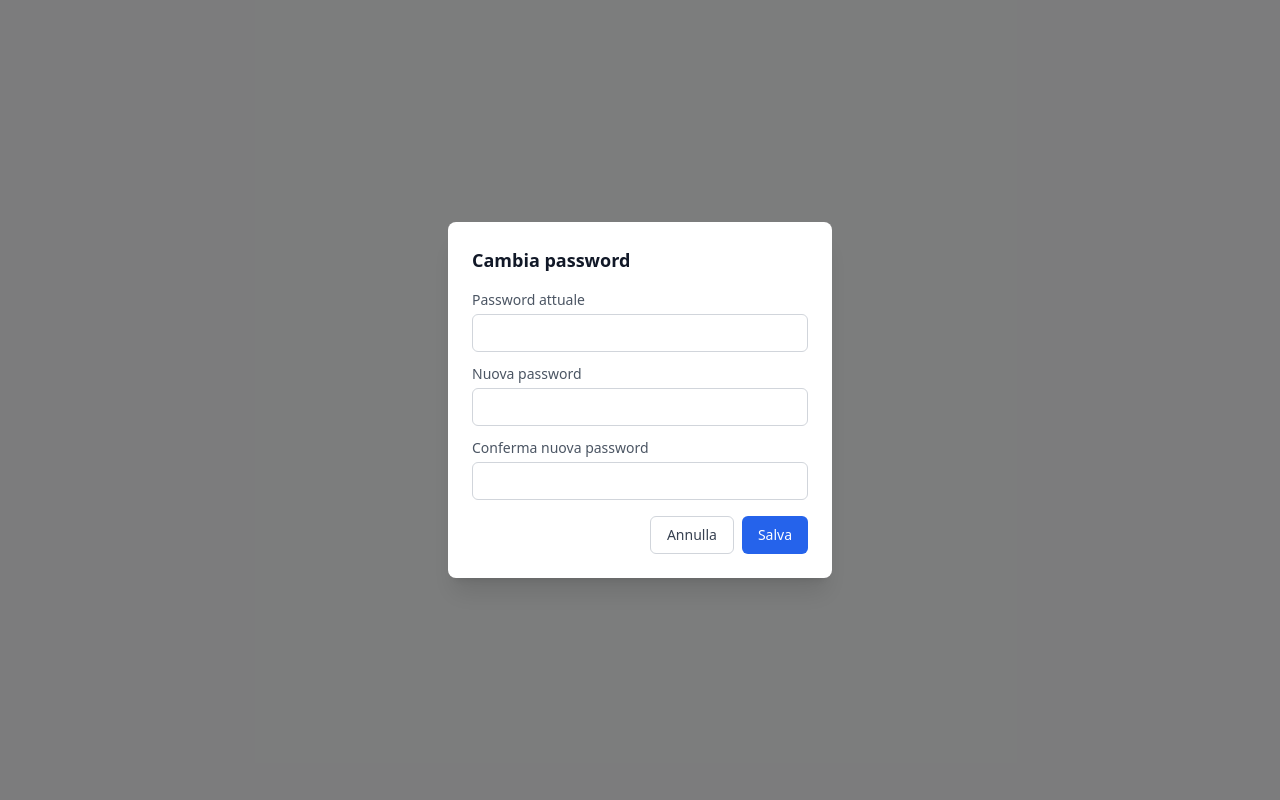
ChangePasswordModal › shows the server error
Type "bad" into the password field labelled "Password attuale" at coordinates (640, 333), box [472,314,808,352]
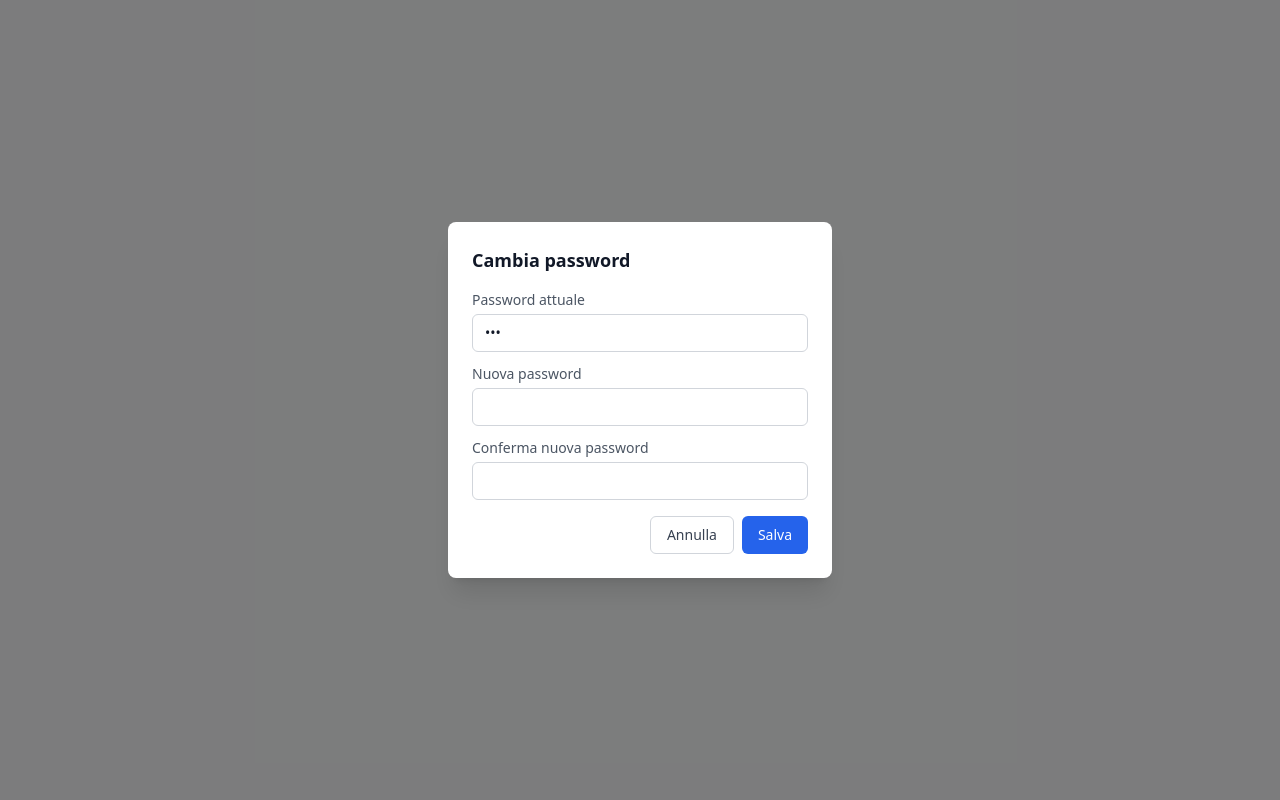
Type "newpass1" into the password field labelled "Nuova password" at coordinates (640, 407), box [472,388,808,426]
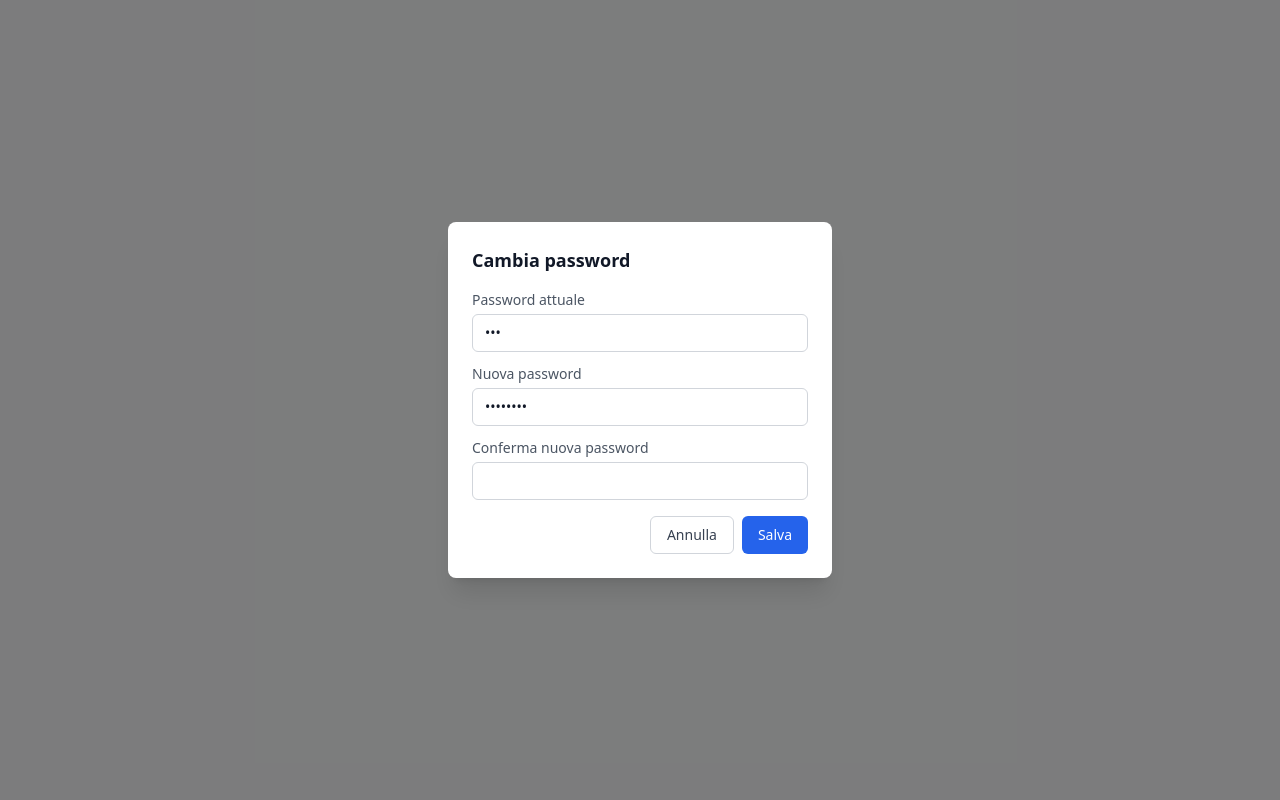
Type "newpass1" into the password field labelled "Conferma nuova password" at coordinates (640, 481), box [472,462,808,500]
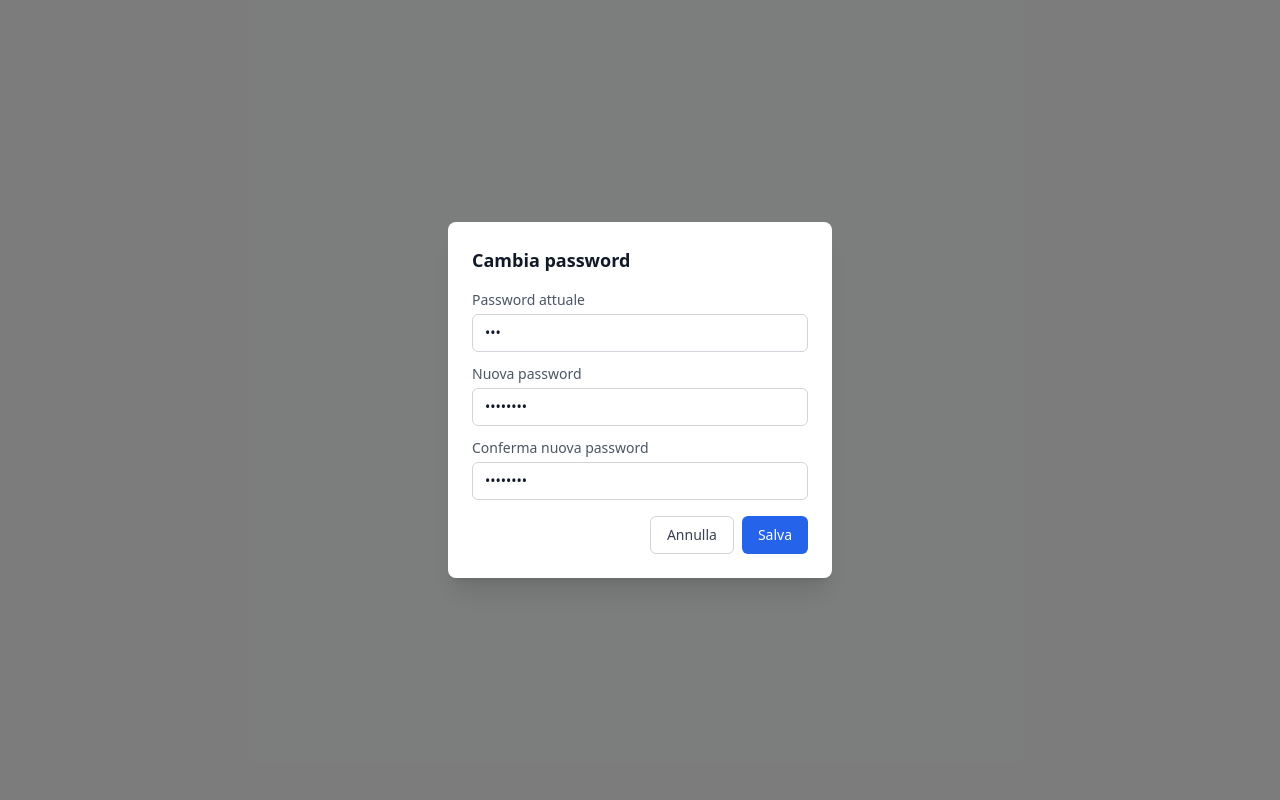
Click the button "Salva" at coordinates (775, 535), box [742,516,808,554]
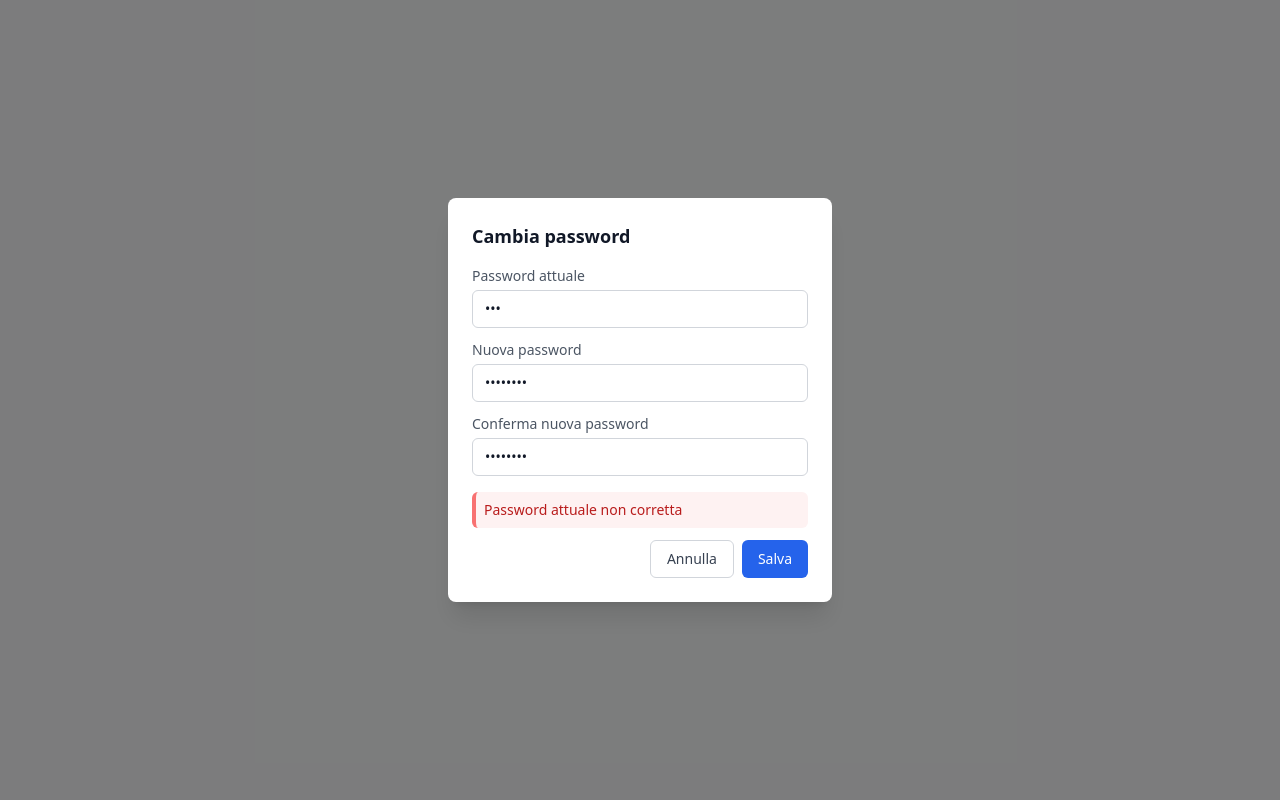
Expected: the text "Password attuale non corretta" is shown, [472,492,808,528]
